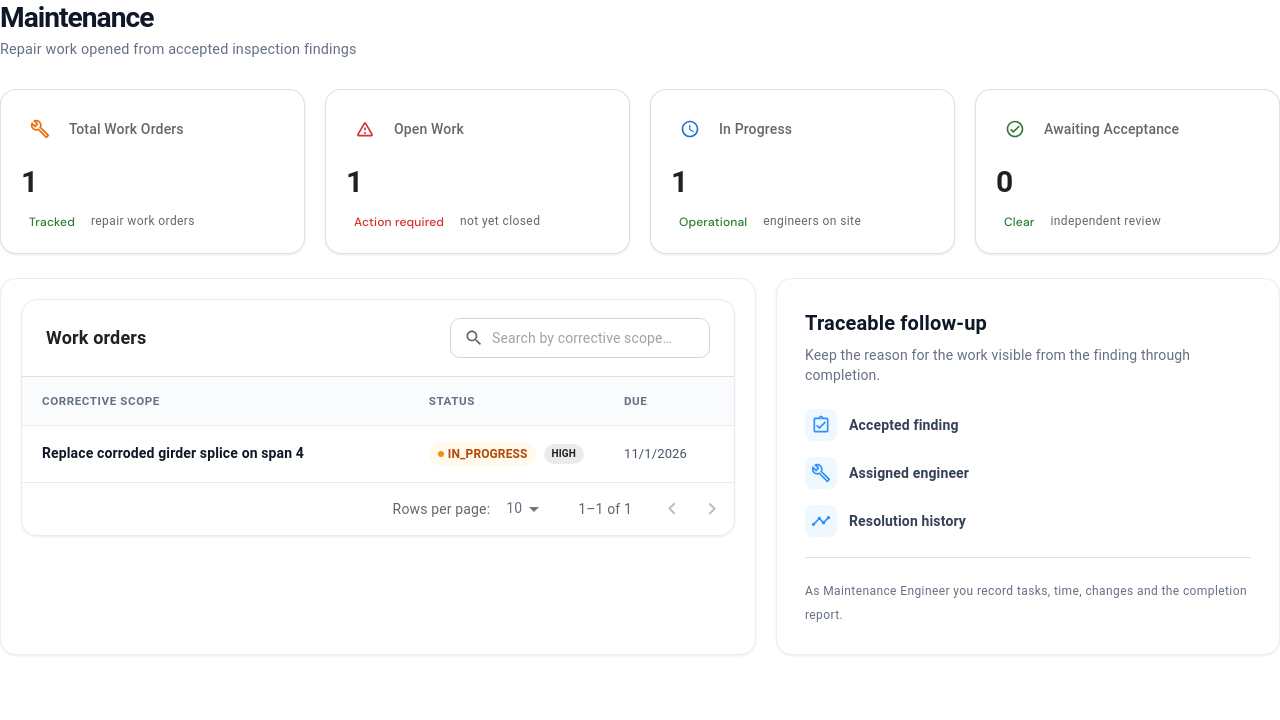
Test: MaintenancePage › opens a work order and shows its corrective scope and gates
Click the text "Replace corroded girder splice on span 4" at (173, 453), box [42,445,304,461]
(page scrolled)
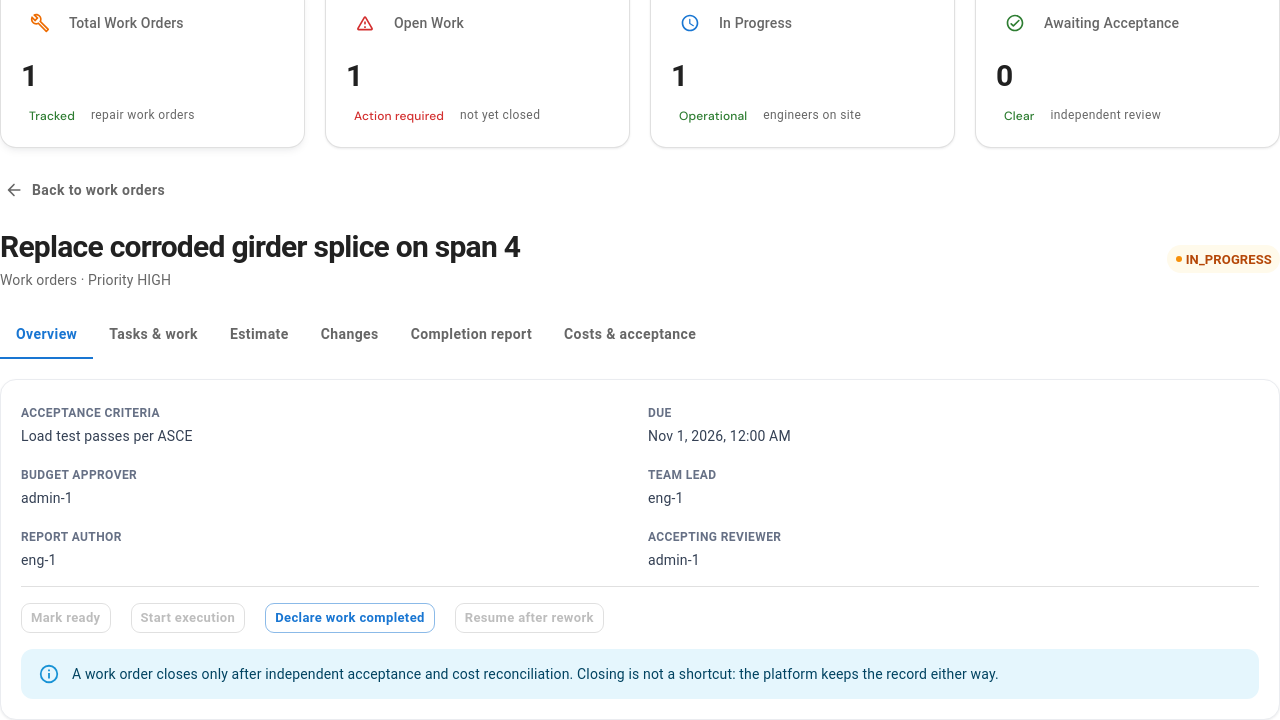
Now the text "Load test passes per ASCE" is shown, box [21,428,193,444]
Now the button "Mark ready" is shown, box [21,603,110,633]
Now the button "Start execution" is shown, box [130,603,245,633]
